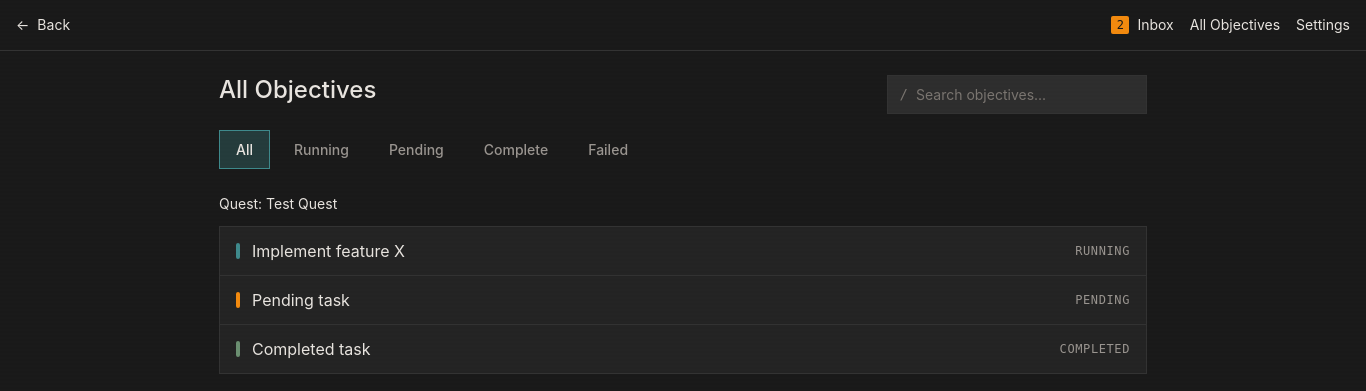
Test case: AllObjectives › filtering › filters to running tasks
The width and height of the screenshot is (1366, 391).
Expected: the text "Implement feature X" is shown, [252, 241, 405, 261]
Click the button "Running" at [322, 150], box [278, 130, 365, 169]
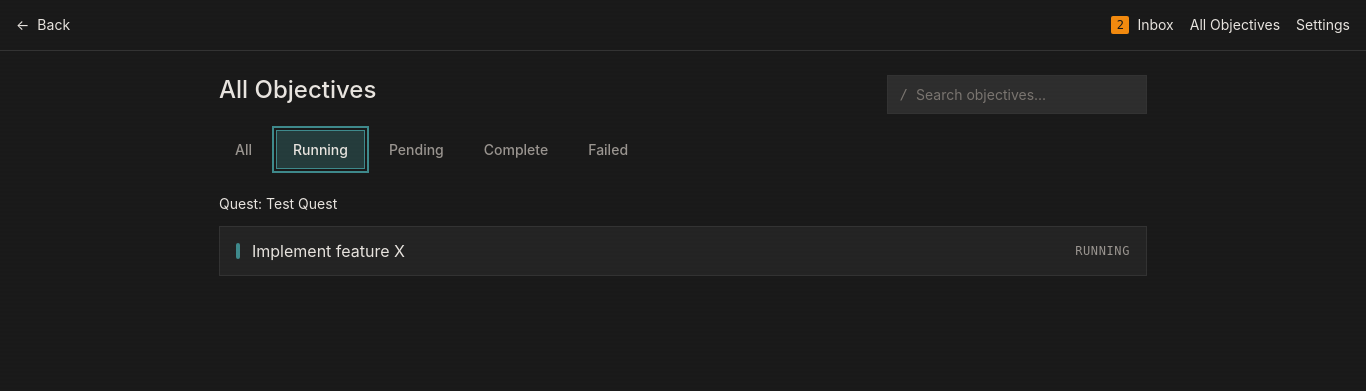
Expected: the text "Implement feature X" is shown, [252, 241, 405, 261]
Result: the link "Pending task" is gone
Result: the link "Completed task" is gone
